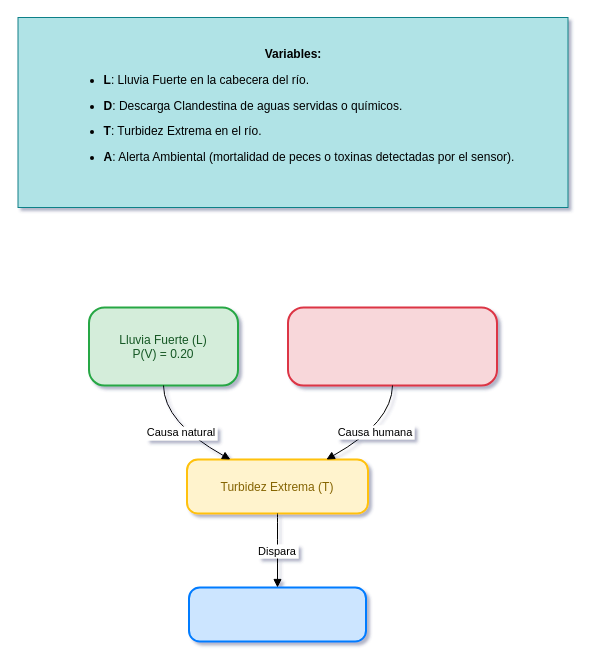
The diagram is 591 pixels wide and 666 high, and some of its shapes have lost their labels. Each missing label, with the centre of its shape:
"Alerta Ambiental (A)" belongs at [277,614].
"Descarga Clandestina (D) P(V) = 0.05" belongs at [392,346].
